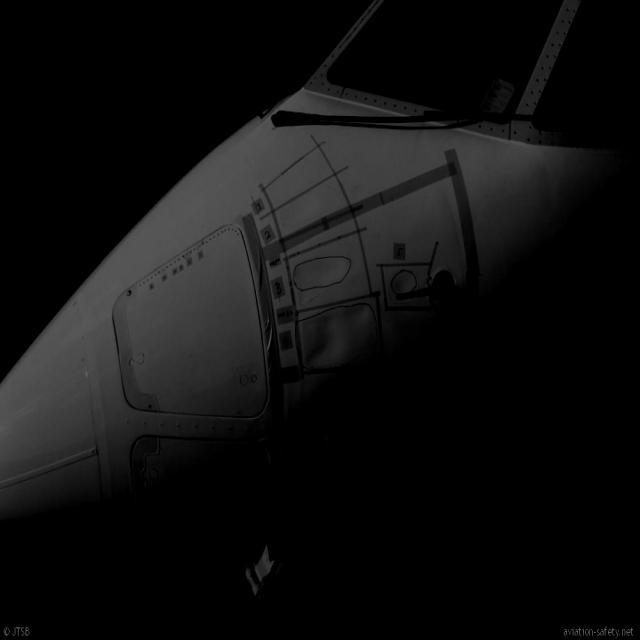dent: (293, 258, 354, 291), (308, 323, 345, 365), (396, 274, 416, 298), (351, 305, 369, 325)
